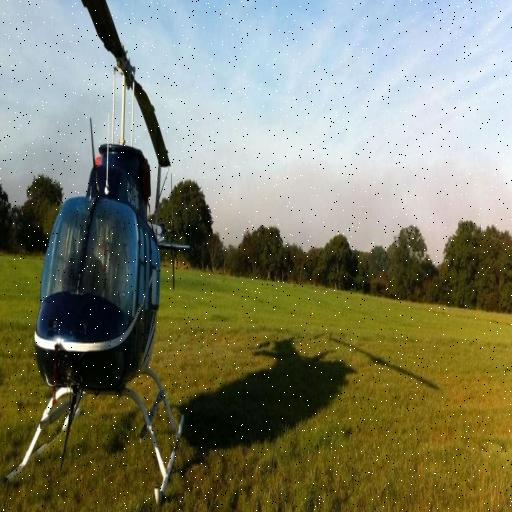helicopter: (1, 1, 193, 506)
